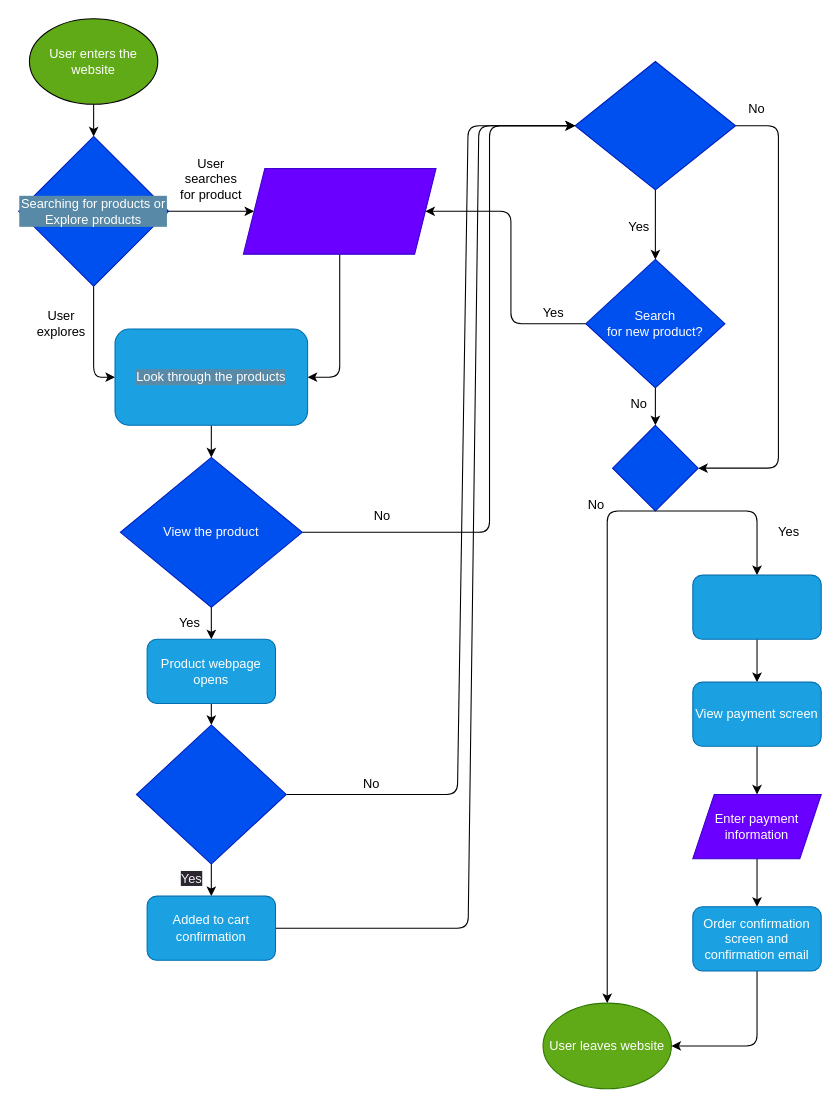
Some shapes in this 840 by 1107 pixel diagram are drawn without their labels. The shapes that lost their labels are listed below. From the top down, each one's centre as x and y in pixels, then its label:
At point 655,125: "Continue shopping?".
At point 339,210: "User provides input to the website for their search".
At point 655,467: "Checkout?".
At point 756,606: "View Cart screen".
At point 210,794: "Add product to cart?".
